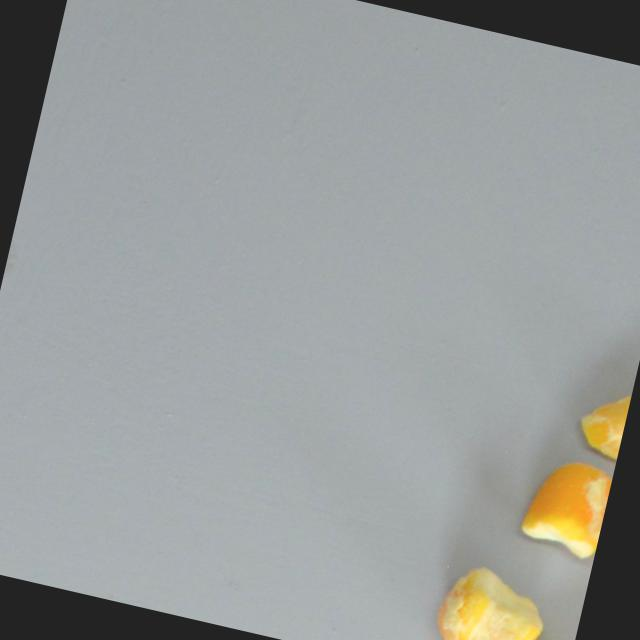dañado: (511, 447, 615, 564), (426, 552, 559, 640), (567, 371, 634, 471)
